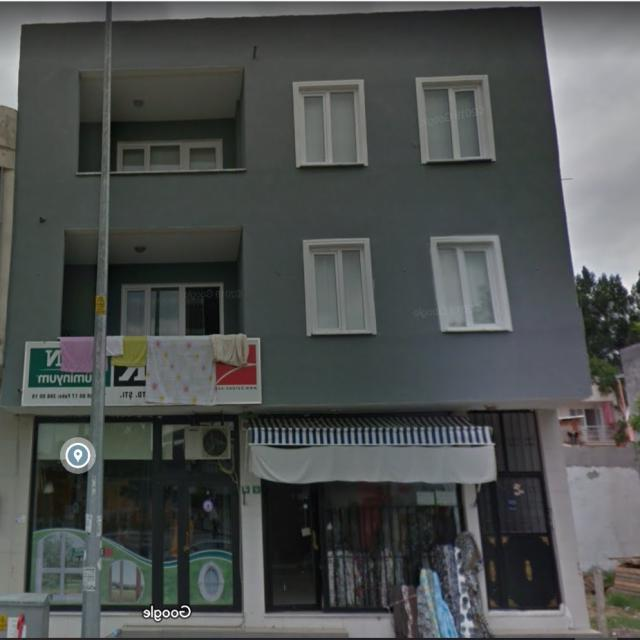Building: (0, 6, 595, 637)
